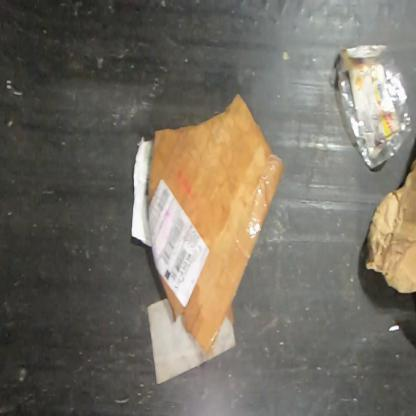cardboard: (146, 91, 288, 358)
soft_plastic: (335, 43, 414, 171)
